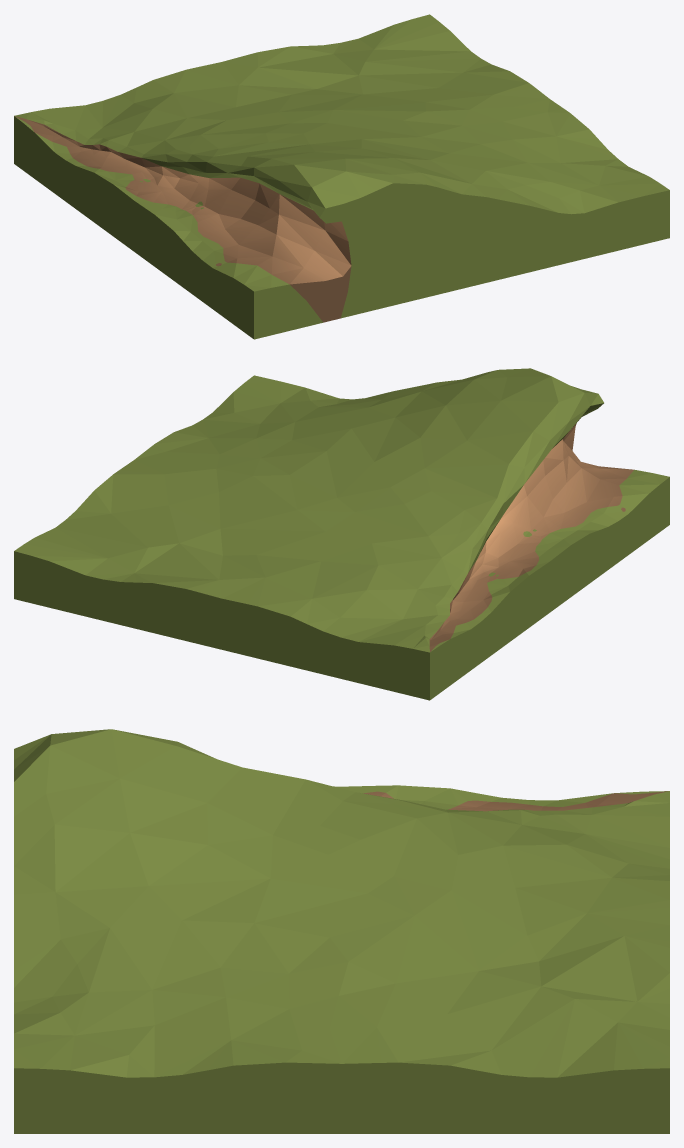
The model's file is Terrian_CliffGrass_Hill_End-01.fbx.
3 renders of one model, top to bottom at view 1: azimuth 30°, elevation 25°; view 2: azimuth 150°, elevation 25°; view 3: azimuth 270°, elevation 25°, orthographic. The views are drawn at different scales.
Visible parts, largest first — view 1: Terrian_CliffGrass_Hill_End-01; view 2: Terrian_CliffGrass_Hill_End-01; view 3: Terrian_CliffGrass_Hill_End-01.
Part boxes in pixels (<box>): Terrian_CliffGrass_Hill_End-01: <box>14,14,669,339</box>; Terrian_CliffGrass_Hill_End-01: <box>14,368,669,700</box>; Terrian_CliffGrass_Hill_End-01: <box>14,729,669,1133</box>.
Size of the model in its own units: 3600 by 1098 by 3600.
1 material, 1 textured.
